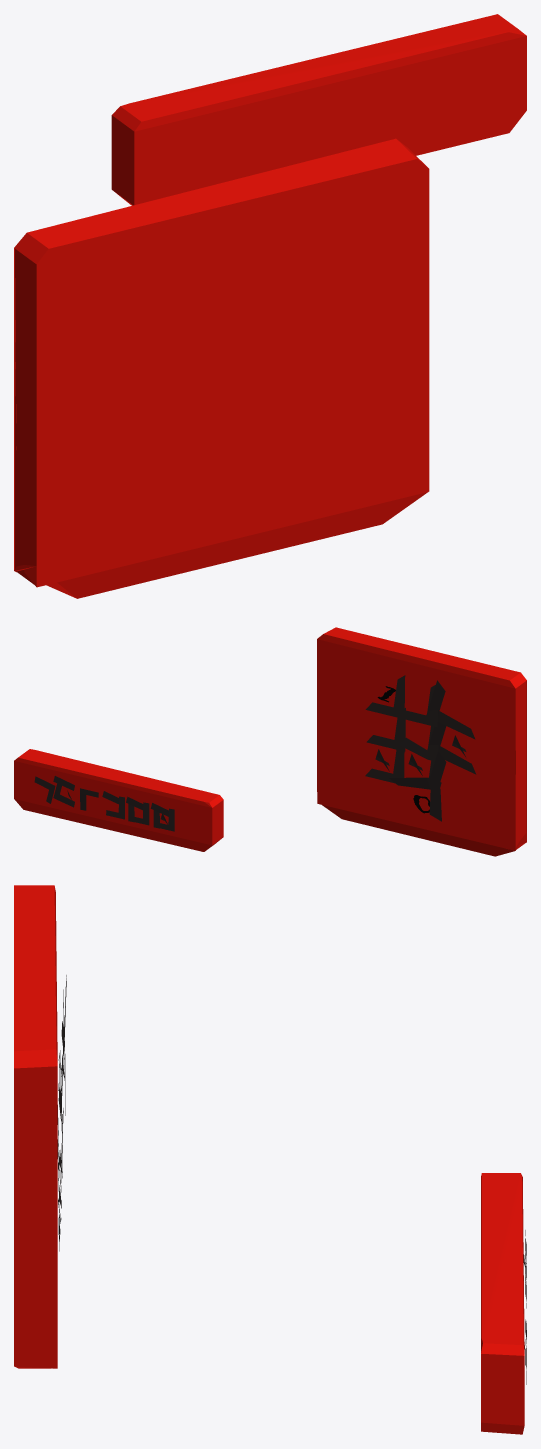
The model's file is cipher.fbx.
3 renders of one model, top to bottom at view 1: azimuth 30°, elevation 25°; view 2: azimuth 150°, elevation 25°; view 3: azimuth 270°, elevation 25°, orthographic. The views are drawn at different scales.
Parts seen in each view (by area): view 1: Cipher, Code; view 2: Cipher, Code, Plane.011, Plane.002, Plane.006, Plane.004, Plane, Plane.008, Plane.001, Plane.005, Plane.013; view 3: Cipher, Code.
Boxes of the visible parts, x1,y1,x2,y2 form: Cipher: (14,138,429,598); Code: (111,14,526,205); Cipher: (317,627,526,856); Code: (14,749,223,851); Plane.011: (389,777,441,821); Plane.002: (426,680,475,739); Plane.006: (427,722,476,774); Plane.004: (365,675,405,717); Plane: (366,708,405,751); Plane.008: (365,749,404,783); Plane.001: (399,685,437,727); Plane.005: (399,726,438,761); Plane.013: (430,751,446,787); Cipher: (14,885,57,1368); Code: (481,1173,524,1434).
Size of the model in its own units: 759 by 353 by 490.
